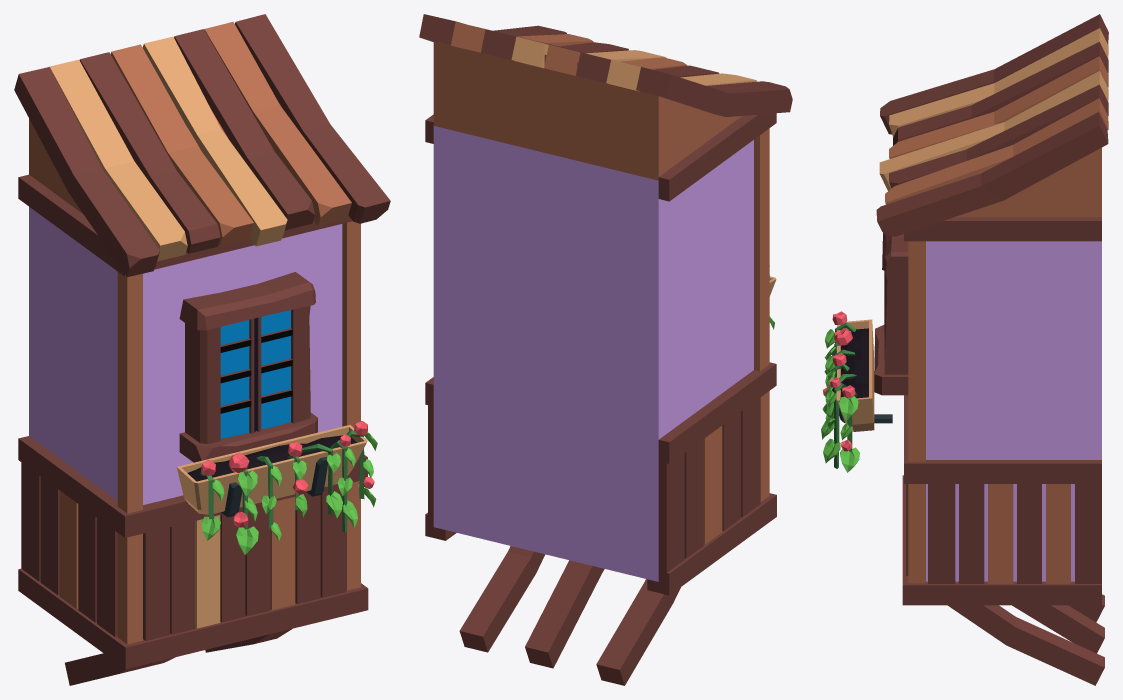
File: Building Addon 08.fbx
The picture shows the model from 3 angles, left to right: view 1: azimuth 30°, elevation 25°; view 2: azimuth 150°, elevation 25°; view 3: azimuth 270°, elevation 25°; orthographic projection. The views are drawn at different scales.
Visible parts, largest first — view 1: Building Addon 08; view 2: Building Addon 08; view 3: Building Addon 08.
Boxes of the visible parts, bbox=[...] form: Building Addon 08: bbox=[14, 14, 390, 685]; Building Addon 08: bbox=[419, 14, 792, 685]; Building Addon 08: bbox=[821, 14, 1108, 685].
Bounding box in the file's own units: 298 × 690 × 312.
